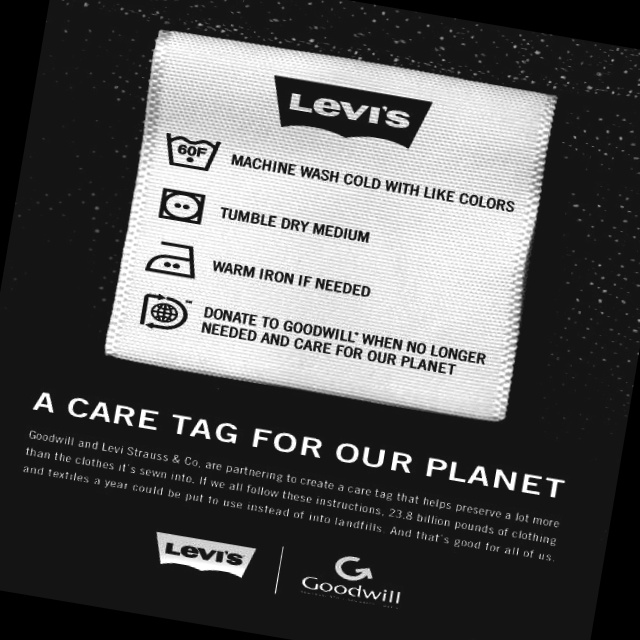30C: (159, 124, 226, 178)
iron_medium: (142, 233, 205, 285)
tumble_dry_medium: (152, 184, 212, 231)
